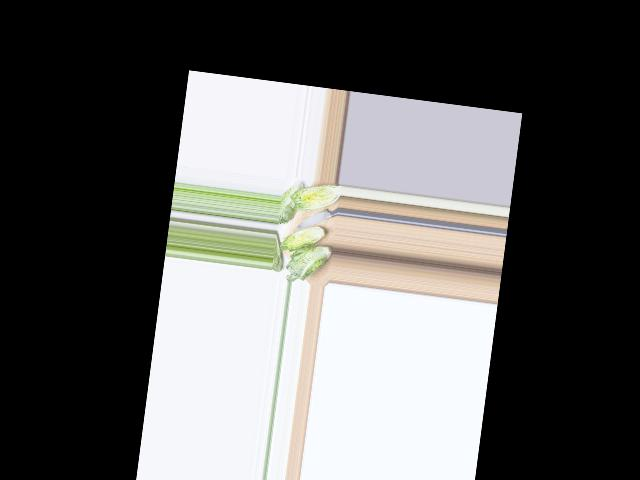lettuce: (279, 180, 303, 225)
